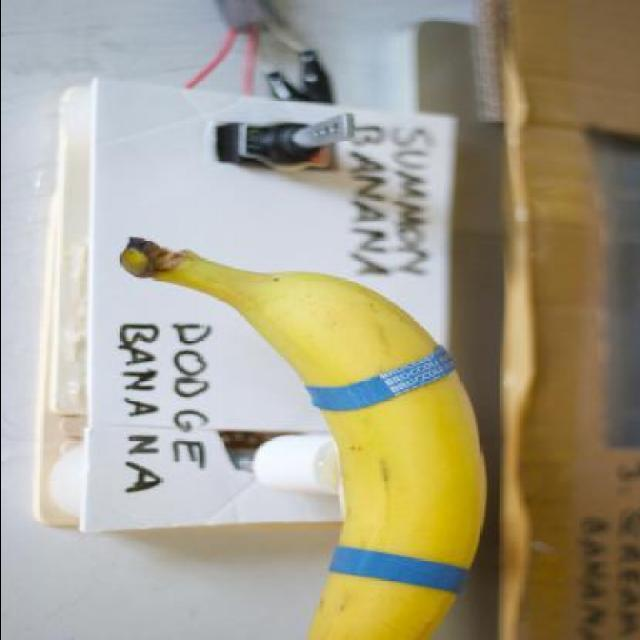Banana: (146, 230, 482, 614)
